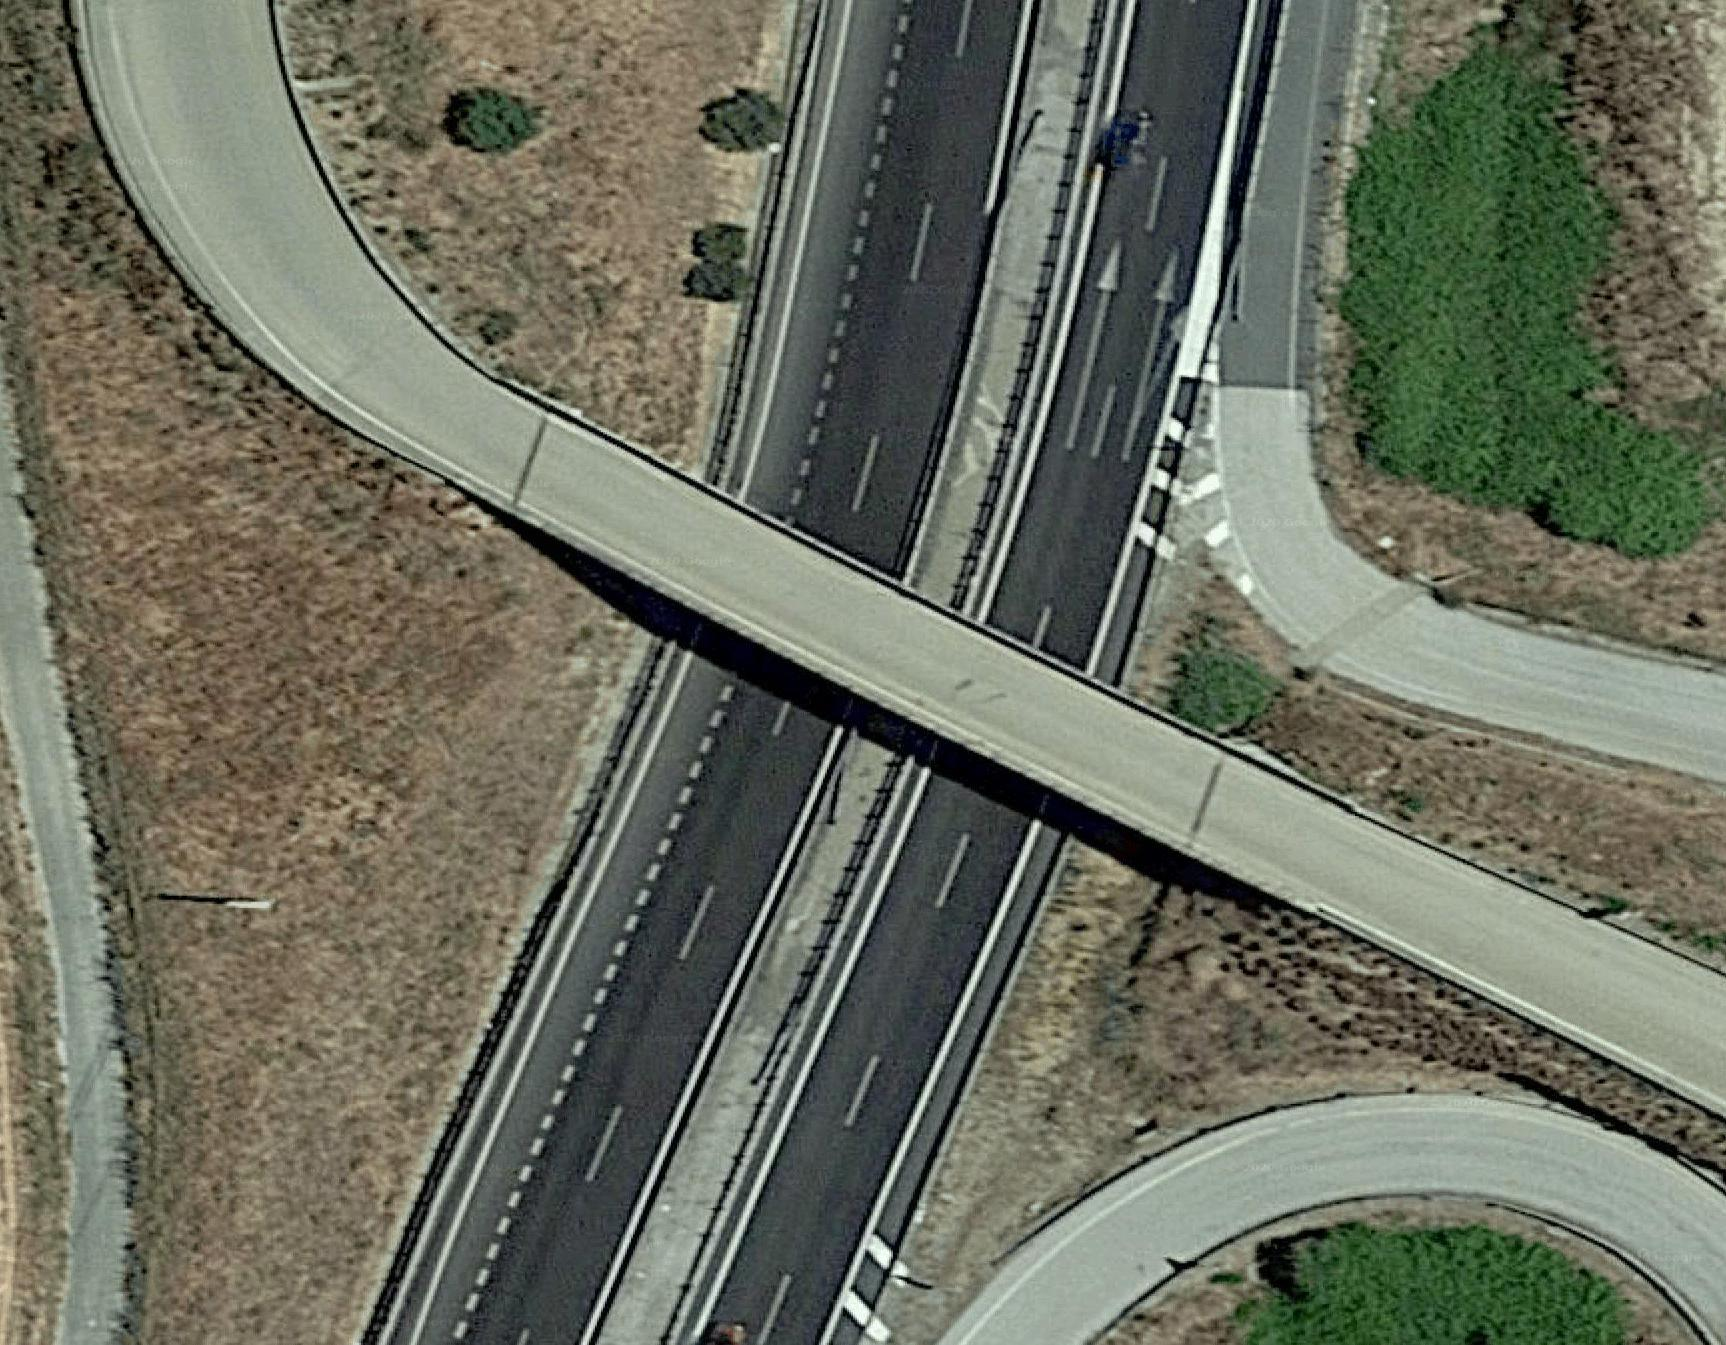bridge: (552, 401, 1238, 891)
small-vehicle: (1103, 111, 1174, 177)
